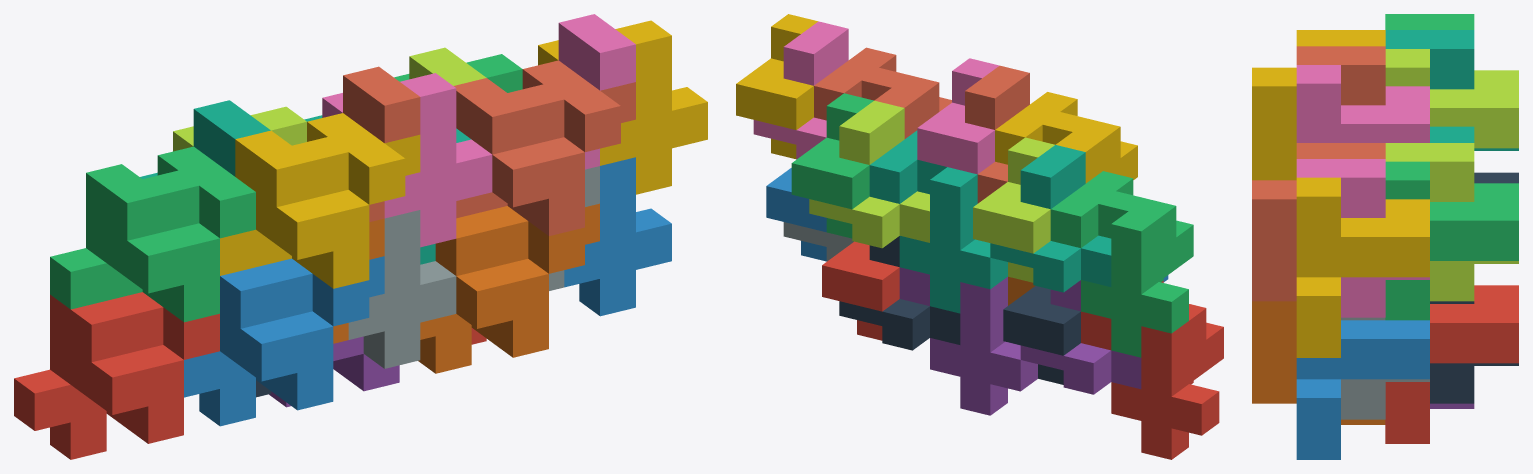
Rendered from tiling.obj.
3 views of the same model, side by side, from view 1: azimuth 30°, elevation 25°; view 2: azimuth 150°, elevation 25°; view 3: azimuth 270°, elevation 25° (orthographic). The views are drawn at different scales.
Visible parts, largest first — view 1: copy_1_domain_1, copy_4_domain_4, copy_4_domain_8, copy_4_domain_3, copy_1_domain_3, copy_4_domain_2, copy_1_domain_2, copy_2_domain_4, copy_4_domain_6, copy_1_domain_4, copy_2_domain_8, copy_4_domain_1 (+13 smaller); view 2: copy_1_domain_3, copy_1_domain_1, copy_1_domain_7, copy_1_domain_5, copy_3_domain_3, copy_3_domain_7, copy_4_domain_3, copy_2_domain_7, copy_2_domain_3, copy_2_domain_8, copy_2_domain_4, copy_3_domain_8 (+14 smaller); view 3: copy_2_domain_8, copy_2_domain_6, copy_2_domain_7, copy_2_domain_5, copy_2_domain_4, copy_2_domain_3, copy_3_domain_8, copy_3_domain_7, copy_4_domain_8, copy_4_domain_4, copy_4_domain_6, copy_3_domain_3 (+10 smaller).
Boxes of the visible parts, <box> form: copy_1_domain_1: <box>14,294,183,459</box>; copy_4_domain_4: <box>256,113,420,288</box>; copy_4_domain_8: <box>471,60,635,235</box>; copy_4_domain_3: <box>106,146,255,322</box>; copy_1_domain_3: <box>50,164,219,309</box>; copy_4_domain_2: <box>220,256,384,410</box>; copy_1_domain_2: <box>184,311,333,426</box>; copy_2_domain_4: <box>322,73,492,247</box>; copy_4_domain_6: <box>435,203,599,357</box>; copy_1_domain_4: <box>220,130,369,275</box>; copy_2_domain_8: <box>538,20,707,194</box>; copy_4_domain_1: <box>70,292,219,443</box>; copy_1_domain_3: <box>1081,211,1193,357</box>; copy_1_domain_1: <box>1111,321,1223,459</box>; copy_1_domain_7: <box>899,167,1007,313</box>; copy_1_domain_5: <box>930,277,1037,415</box>; copy_3_domain_3: <box>990,145,1111,292</box>; copy_3_domain_7: <box>809,100,929,248</box>; copy_4_domain_3: <box>1050,171,1176,282</box>; copy_2_domain_7: <box>791,93,873,238</box>; copy_2_domain_3: <box>973,137,1054,282</box>; copy_2_domain_8: <box>736,14,817,158</box>; copy_2_domain_4: <box>917,58,999,174</box>; copy_3_domain_8: <box>753,21,848,159</box>; copy_2_domain_8: <box>1296,177,1429,357</box>; copy_2_domain_6: <box>1296,320,1429,459</box>; copy_2_domain_7: <box>1385,161,1518,320</box>; copy_2_domain_5: <box>1385,285,1518,443</box>; copy_2_domain_4: <box>1296,65,1429,142</box>; copy_2_domain_3: <box>1385,49,1518,148</box>; copy_3_domain_8: <box>1296,159,1429,317</box>; copy_3_domain_7: <box>1385,143,1518,301</box>; copy_4_domain_8: <box>1252,143,1340,301</box>; copy_4_domain_4: <box>1252,30,1340,180</box>; copy_4_domain_6: <box>1252,301,1296,403</box>; copy_3_domain_3: <box>1385,30,1518,150</box>.
Bounding box in the file's own units: 17 × 9 × 6.
